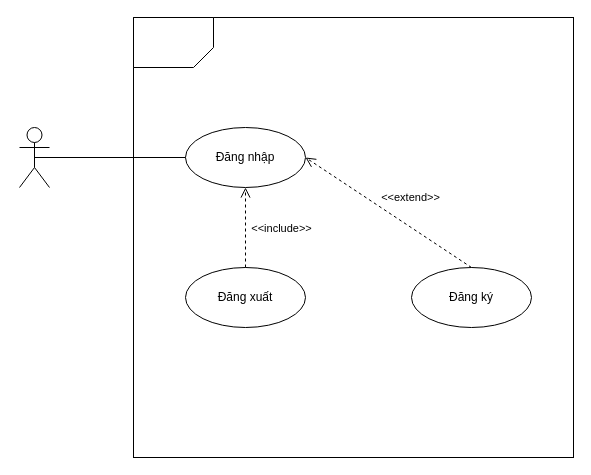
Some shapes in this 591 by 475 pixel diagram are drawn without their labels. The centre of each missing label's shape, as x and y in pixels:
"Khách" goes at [34,157].
"Pet Forum" goes at [173,42].
